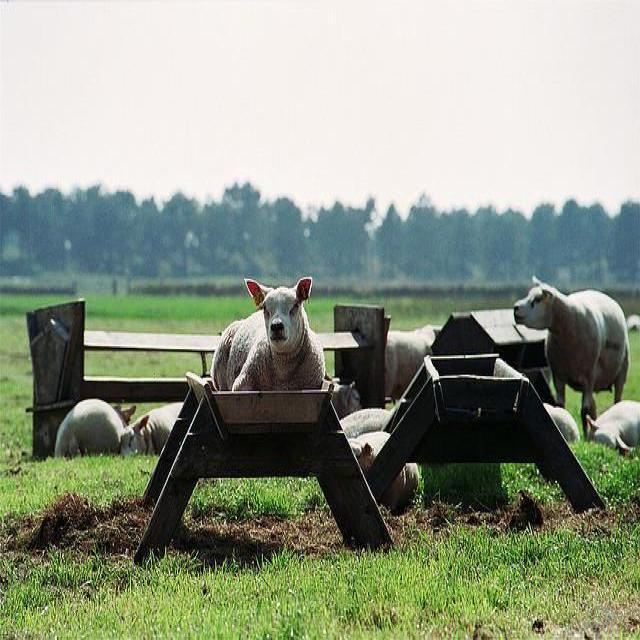Sheep: (514, 274, 630, 435), (210, 276, 327, 392), (351, 430, 423, 517), (54, 398, 150, 458), (385, 322, 442, 400), (587, 398, 639, 452), (143, 402, 185, 457)
